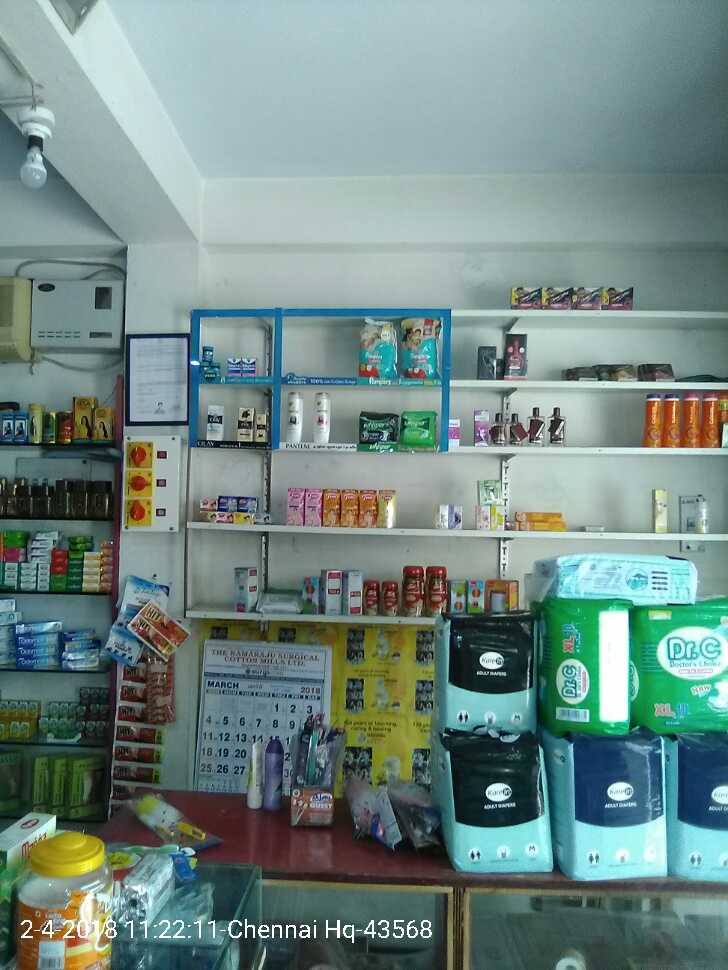vicks: (199, 341, 258, 377)
